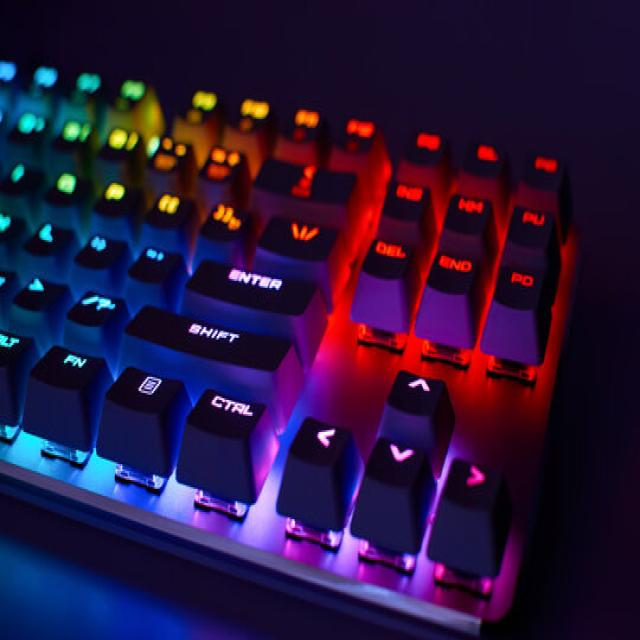keyboard: (4, 63, 573, 620)
